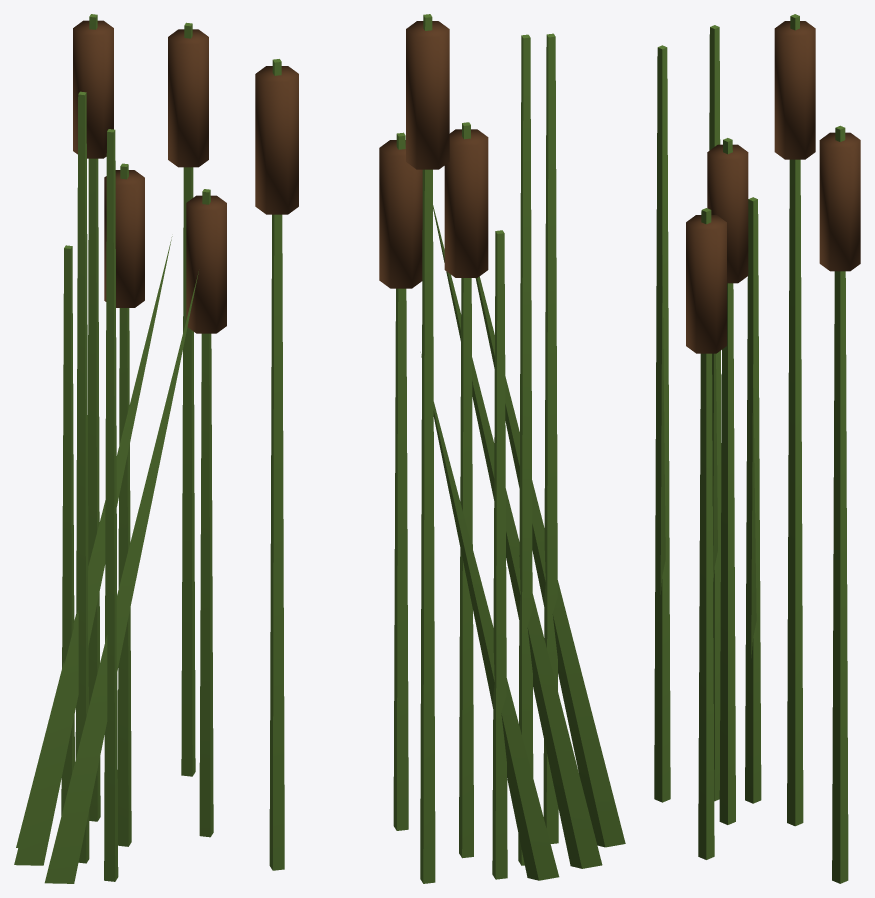
The model's file is reeds.glb.
3 renders of one model, left to right at view 1: azimuth 30°, elevation 25°; view 2: azimuth 150°, elevation 25°; view 3: azimuth 270°, elevation 25°, orthographic. The views are drawn at different scales.
Visible parts, largest first — view 1: Reeds; view 2: Reeds; view 3: Reeds.
Boxes of the visible parts, left/top/right/bottom form: Reeds: left=14, top=14, right=226, bottom=883; Reeds: left=255, top=14, right=625, bottom=883; Reeds: left=654, top=14, right=860, bottom=883.
Size of the model in its own units: 0.4311 by 1.3 by 0.3026.
